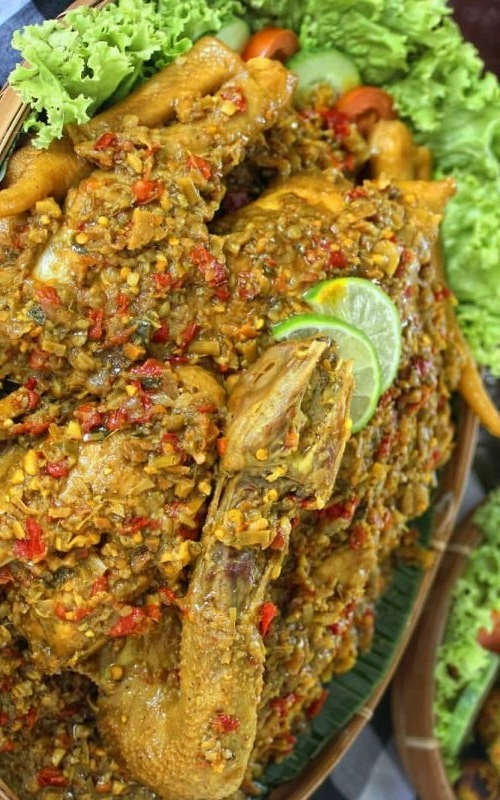ayam_betutu: (2, 36, 454, 800)
